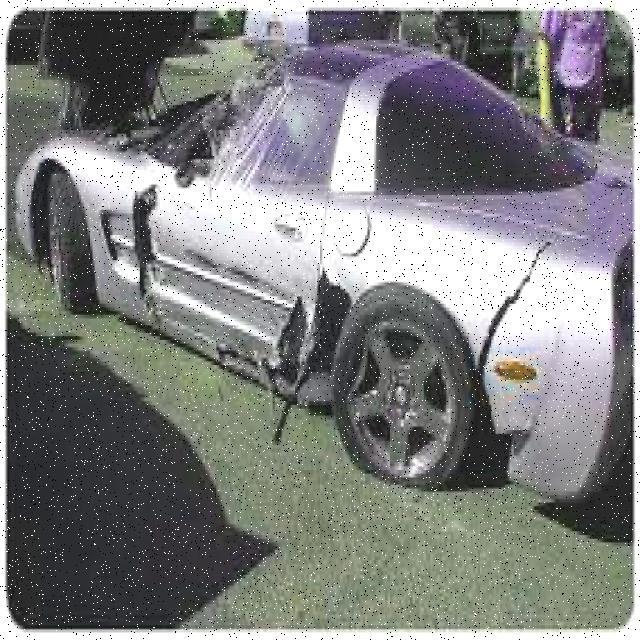car damage: (125, 43, 561, 484)
